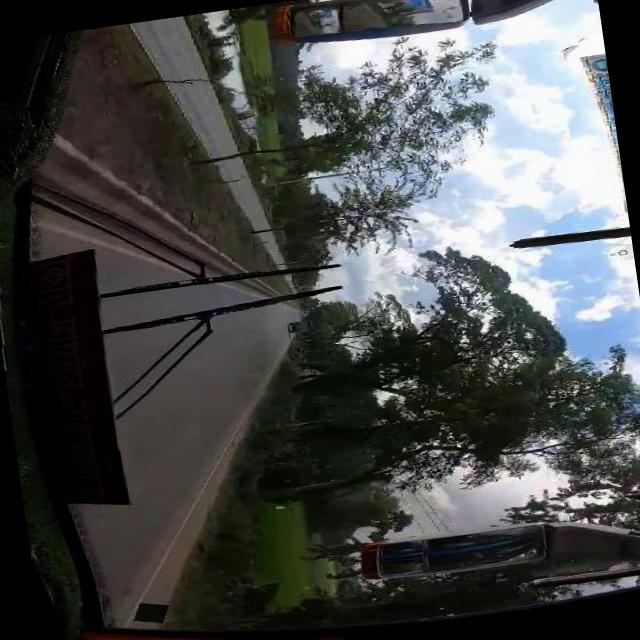truck: (288, 320, 315, 336)
